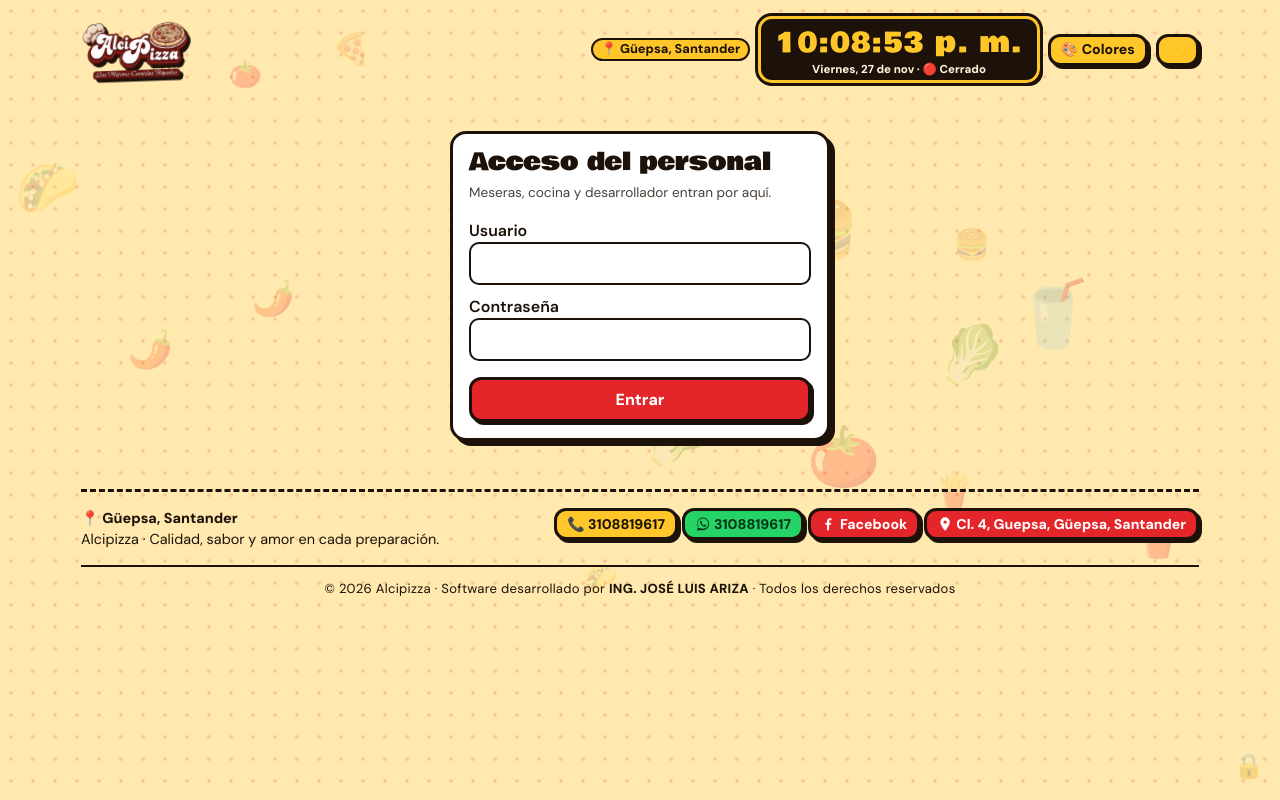
Test case: LoginPage › muestra un aviso con role=alert: 401
Type "ana" into the field labelled "Usuario" at (640, 264), box [469, 242, 811, 285]
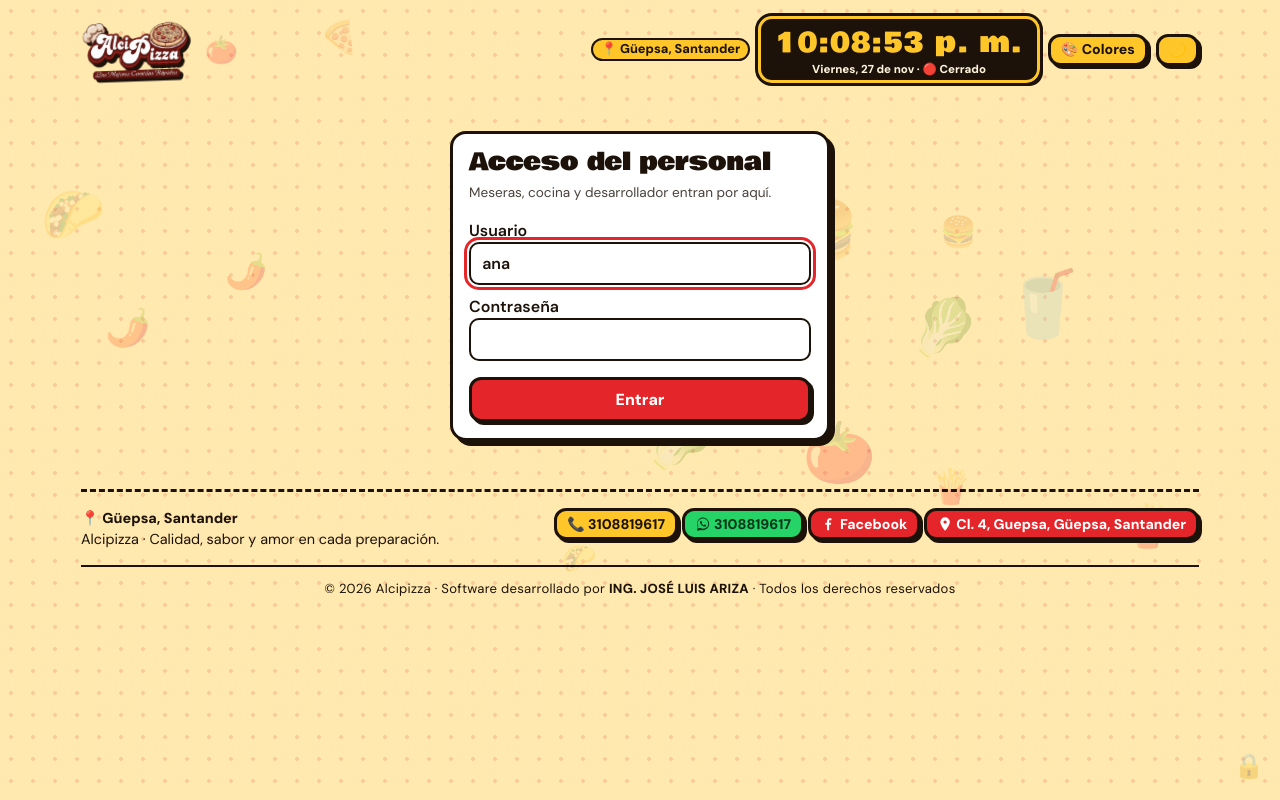
Type "mala" into the password field labelled "Contraseña" at (640, 340), box [469, 318, 811, 361]
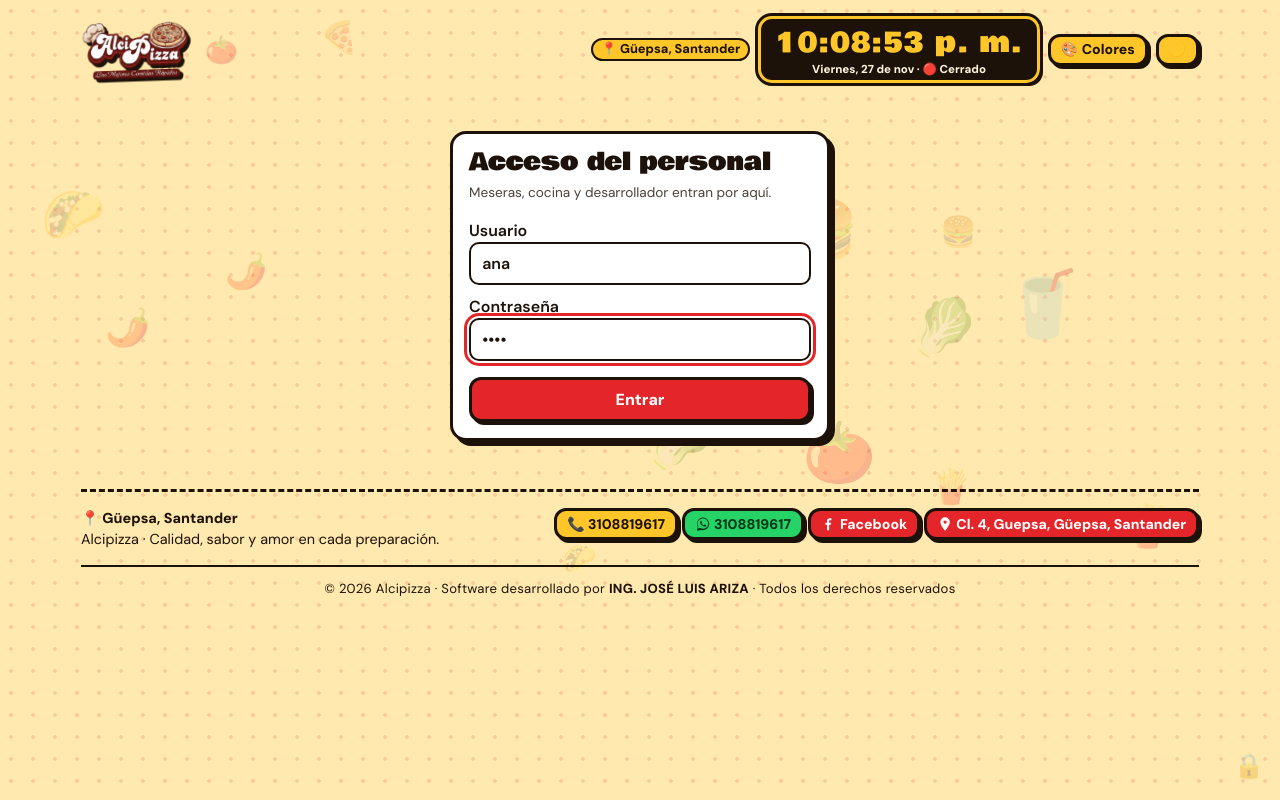
Press Enter
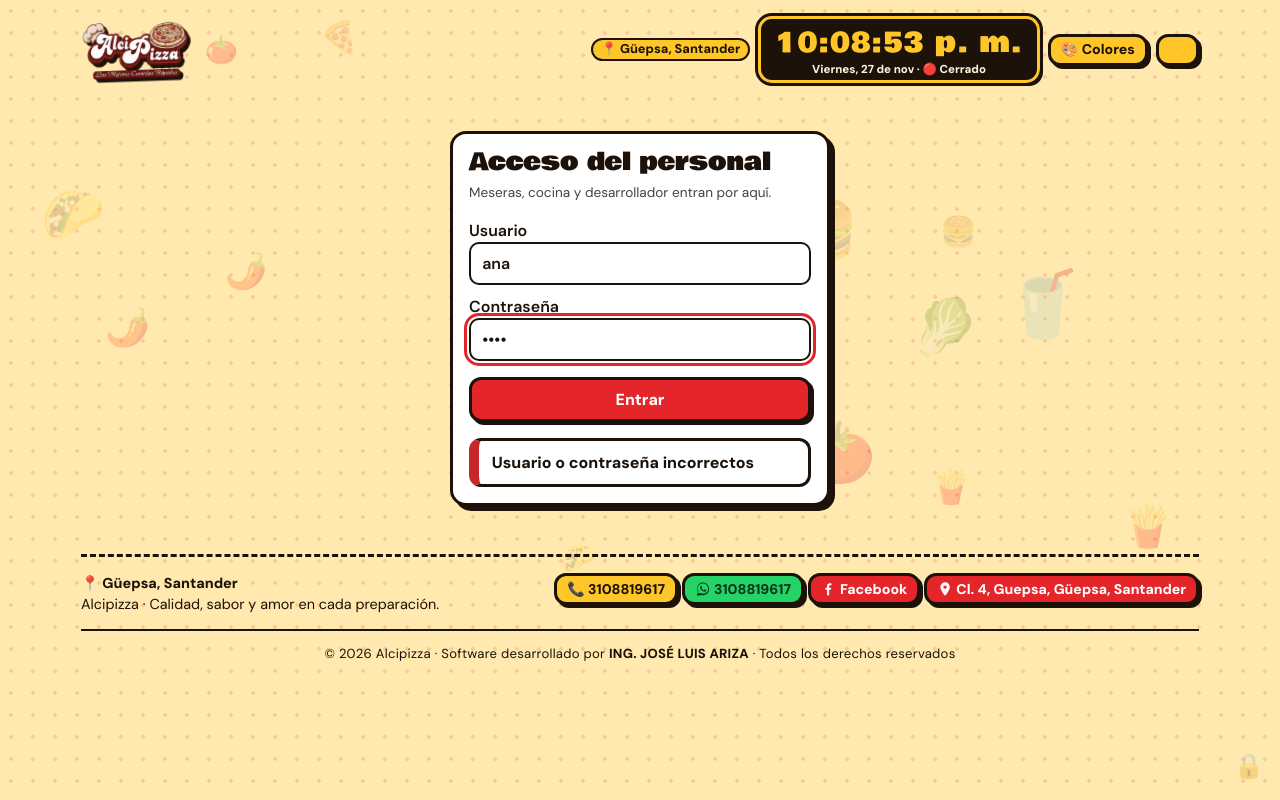
expect the message reads "Usuario o contraseña incorrectos": met, box [492, 452, 754, 473]
